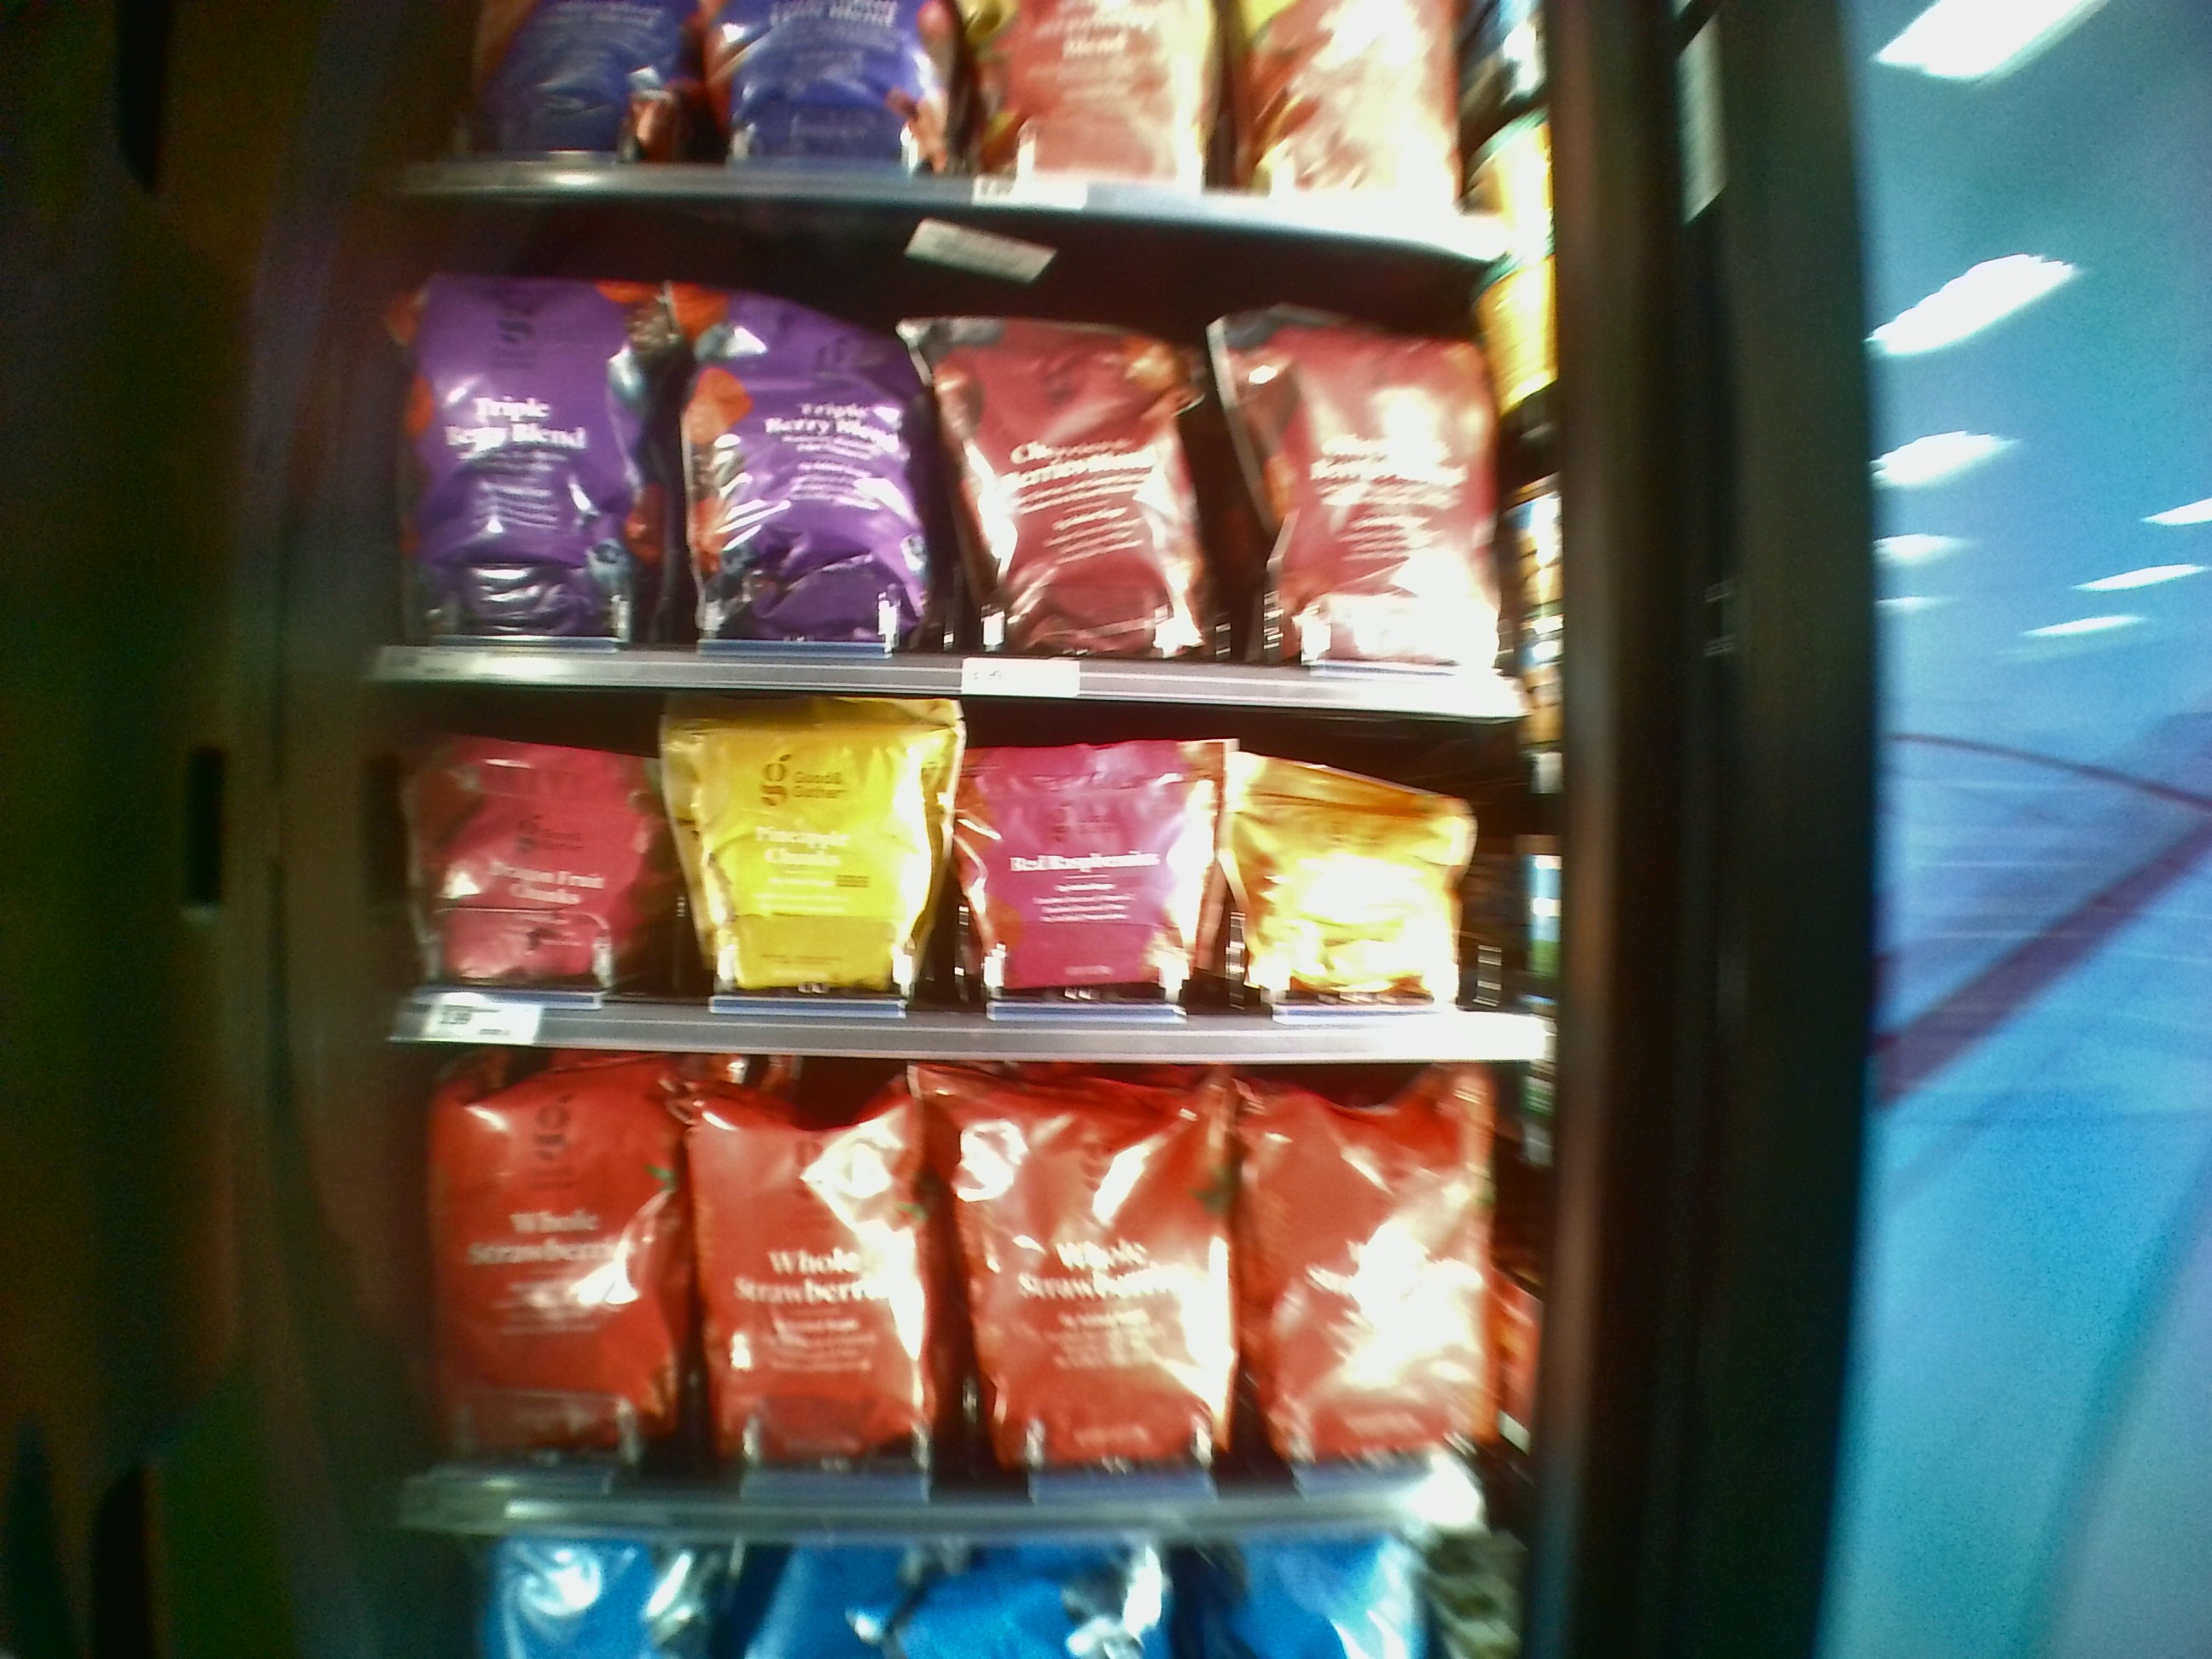shelf: (380, 220, 1557, 702), (402, 1049, 1534, 1534), (381, 692, 1554, 1053)
